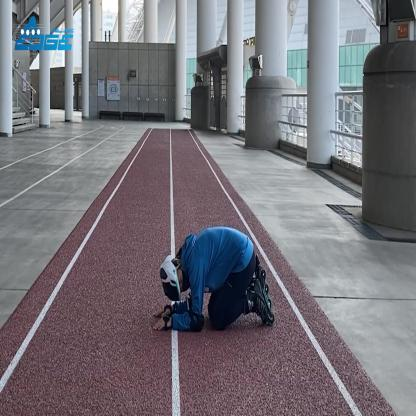Fall_Down: (153, 227, 271, 331)
